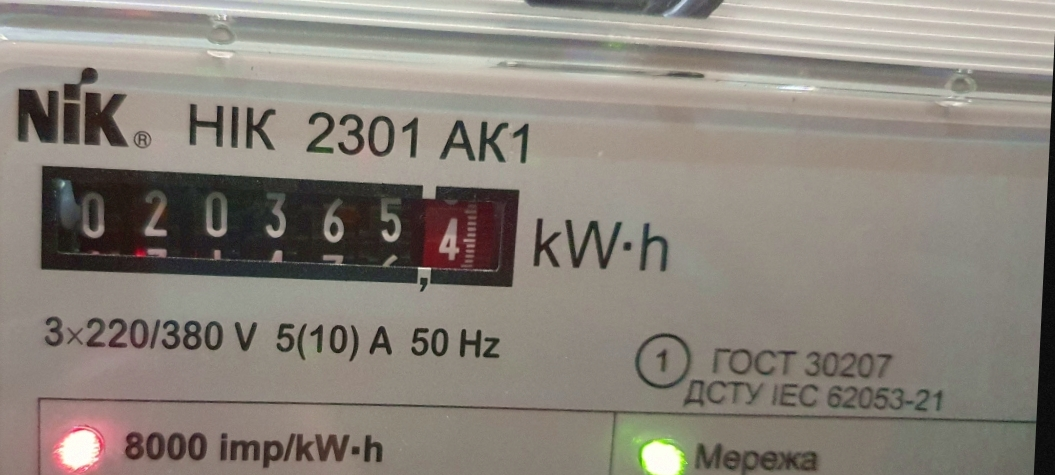0: (75, 185, 111, 242), (201, 188, 233, 239)
2: (139, 185, 172, 238)
3: (260, 189, 291, 240)
4: (436, 212, 461, 261)
5: (377, 195, 406, 243)
6: (319, 192, 347, 244)
screen: (22, 146, 536, 308)
